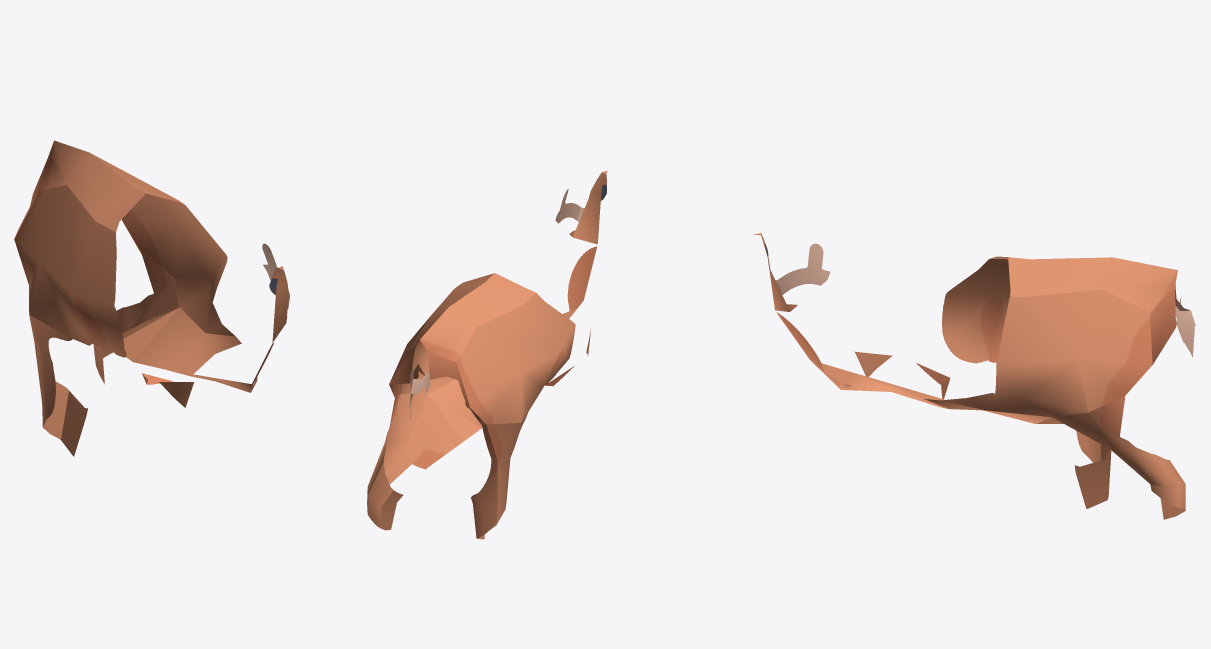
The model's file is deer_lv3WithTexture.fbx.
3 renders of one model, left to right at view 1: azimuth 30°, elevation 25°; view 2: azimuth 150°, elevation 25°; view 3: azimuth 270°, elevation 25°, orthographic. The views are drawn at different scales.
Visible parts, largest first — view 1: pCube2; view 2: pCube2; view 3: pCube2.
Boxes of the visible parts, x1=… form: pCube2: x1=14, y1=140, x2=289, y2=501; pCube2: x1=367, y1=171, x2=607, y2=611; pCube2: x1=753, y1=233, x2=1195, y2=519.
Size of the model in its own units: 7.97 by 31.43 by 25.18.
